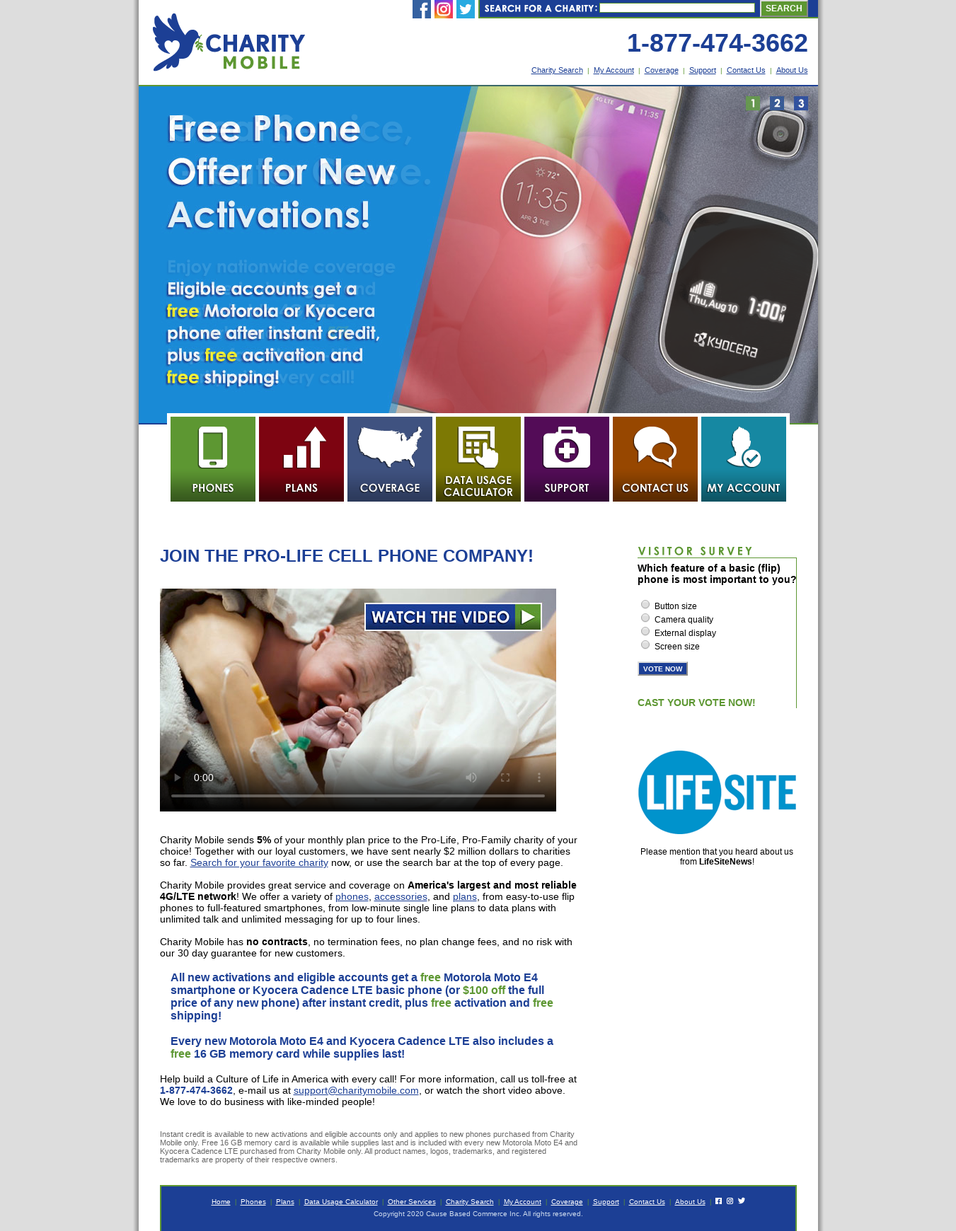fake_button: (341, 598, 563, 640)
